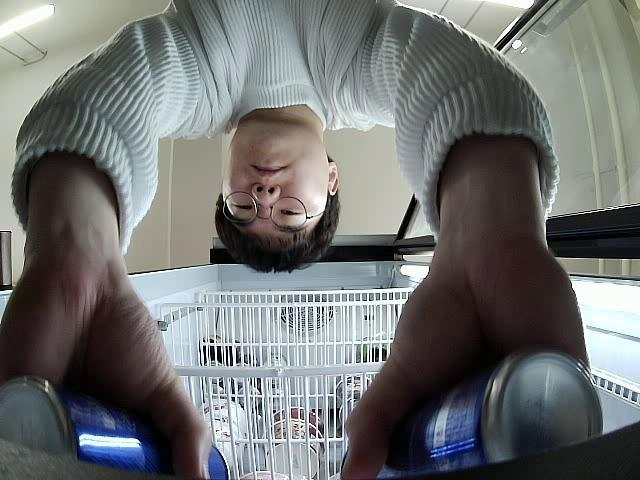16_hot6: (340, 349, 603, 480), (0, 377, 232, 480)
